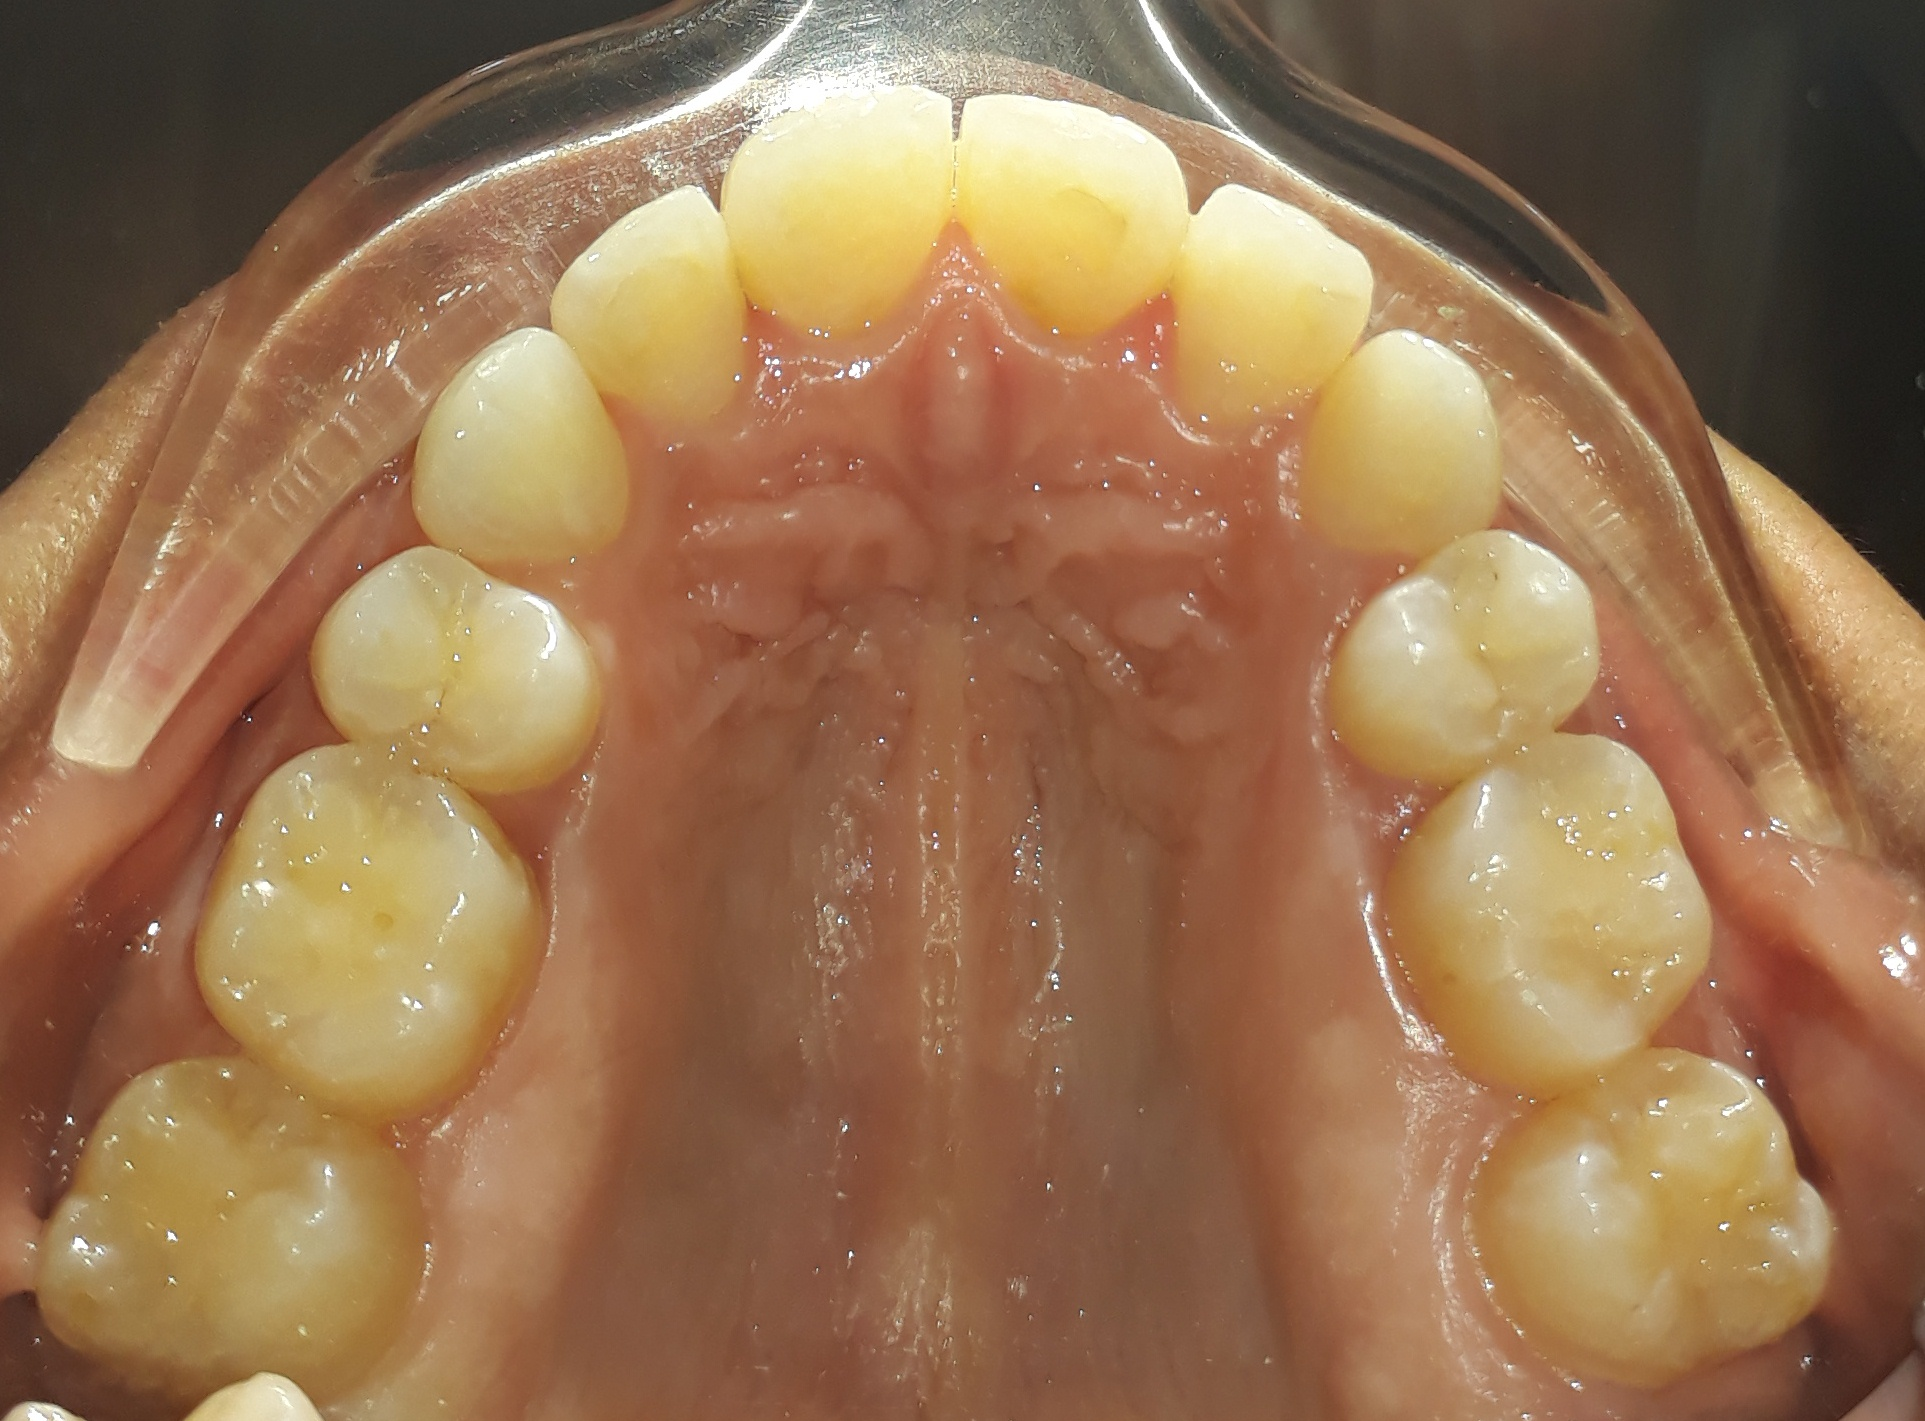1st Molar: (39, 1059, 433, 1385), (1483, 1047, 1832, 1378)
1st Premolar: (306, 545, 605, 781), (1332, 533, 1601, 781)
2nd Premolar: (191, 749, 551, 1106), (1388, 734, 1719, 1077)
Canine: (407, 327, 640, 562), (1303, 327, 1508, 554)
Central Incisor: (722, 84, 957, 359), (960, 87, 1187, 356)
Lateral Incisor: (547, 176, 750, 430), (1173, 179, 1372, 421)
